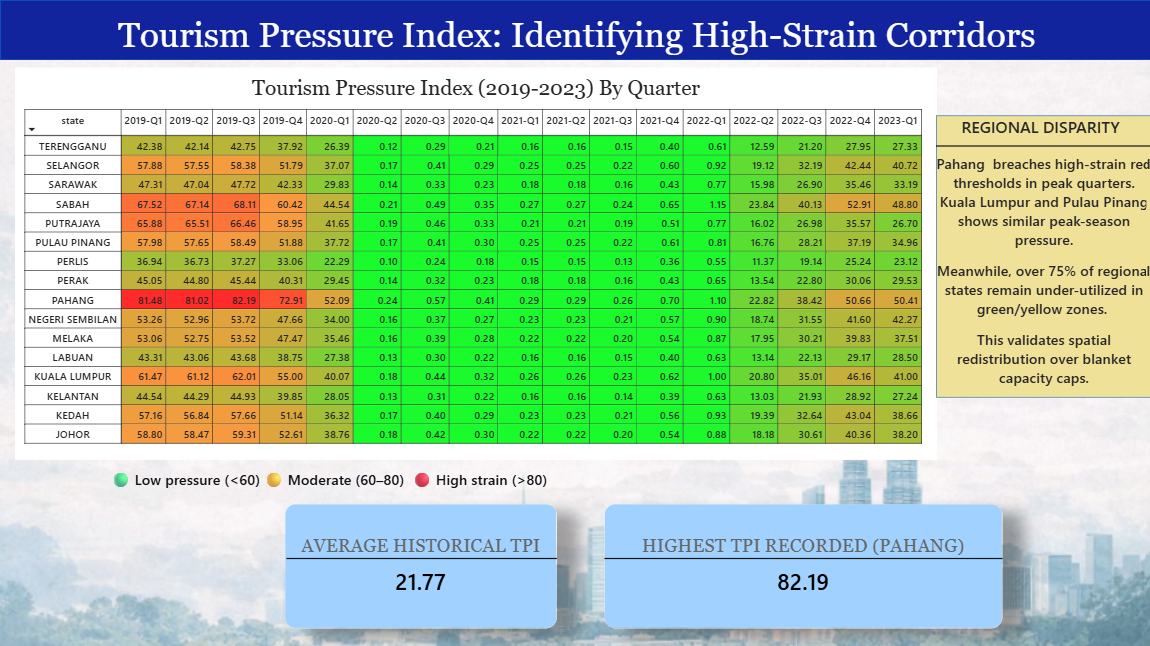

The page's visual inventory and layout, read from the dashboard file:
{"tool":"powerbi","page":{"name":"Heatmap","canvas":[1920,1080],"ordinal":1},"visuals":[{"type":"textbox","box":[24,194,393.5,48.8],"z":0},{"type":"pivotTable","title":"Tourism Pressure Index (2019-2023) By Quarter","fields":{"Columns":["Dim_Calendar.quarter_label"],"Rows":["Dim_Weights.state"],"Values":["Sum(Fact_Historical_TPI.tpi)"]},"box":[23.9,112.1,1536.5,653.7],"z":1000,"group":"g1"},{"type":"group","id":"g1","title":"Group 1","box":[23.9,112.1,1536.5,653.7],"z":1000},{"type":"shape","box":[0,0,1920.7,100.2],"z":3000},{"type":"textbox","box":[124.1,23.9,1672.5,76.3],"z":4000},{"type":"textbox","box":[186.1,782.6,1305.1,112.1],"z":5000},{"type":"cardVisual","fields":{"Data":["Fact_Historical_TPI.Avg Historical TPI"]},"box":[474.8,839.8,453.3,207.6],"z":8000},{"type":"shape","box":[477.2,870.9,450.9,121.7],"z":9000},{"type":"textbox","box":[128.8,799.3,384.1,281.5],"z":12000},{"type":"shape","title":"hh","box":[1560.4,193.3,360.3,470],"z":14000},{"type":"textbox","box":[1560.4,255.3,360.3,381.7],"z":15000},{"type":"textbox","box":[1603.3,193.3,317.3,47.7],"z":15001},{"type":"shape","box":[1560.4,181.3,360.3,121.7],"z":15002},{"type":"cardVisual","fields":{"Data":["Max(Fact_Historical_TPI.tpi)"]},"box":[1006.9,839.8,663.3,207.6],"z":15003},{"type":"shape","box":[1006.9,870.9,663.3,121.7],"z":15004}]}

Visuals, with their boxes in screenshot pixels (x1, y1, x2, y2), scaled from the page's 1920x1080 canvas onto the 1150x646 screenshot:
textbox: x1=14 y1=116 x2=250 y2=145
"Tourism Pressure Index (2019-2023) By Quarter" pivotTable: x1=14 y1=67 x2=935 y2=458
"Group 1" group: x1=14 y1=67 x2=935 y2=458
shape: x1=0 y1=0 x2=1149 y2=60
textbox: x1=74 y1=14 x2=1076 y2=60
textbox: x1=111 y1=468 x2=893 y2=535
cardVisual - Fact_Historical_TPI.Avg Historical TPI: x1=284 y1=502 x2=556 y2=627
shape: x1=286 y1=521 x2=556 y2=594
textbox: x1=77 y1=478 x2=307 y2=645
"hh" shape: x1=935 y1=116 x2=1149 y2=397
textbox: x1=935 y1=153 x2=1149 y2=381
textbox: x1=960 y1=116 x2=1149 y2=144
shape: x1=935 y1=108 x2=1149 y2=181
cardVisual - Max(Fact_Historical_TPI.tpi): x1=603 y1=502 x2=1000 y2=627
shape: x1=603 y1=521 x2=1000 y2=594
